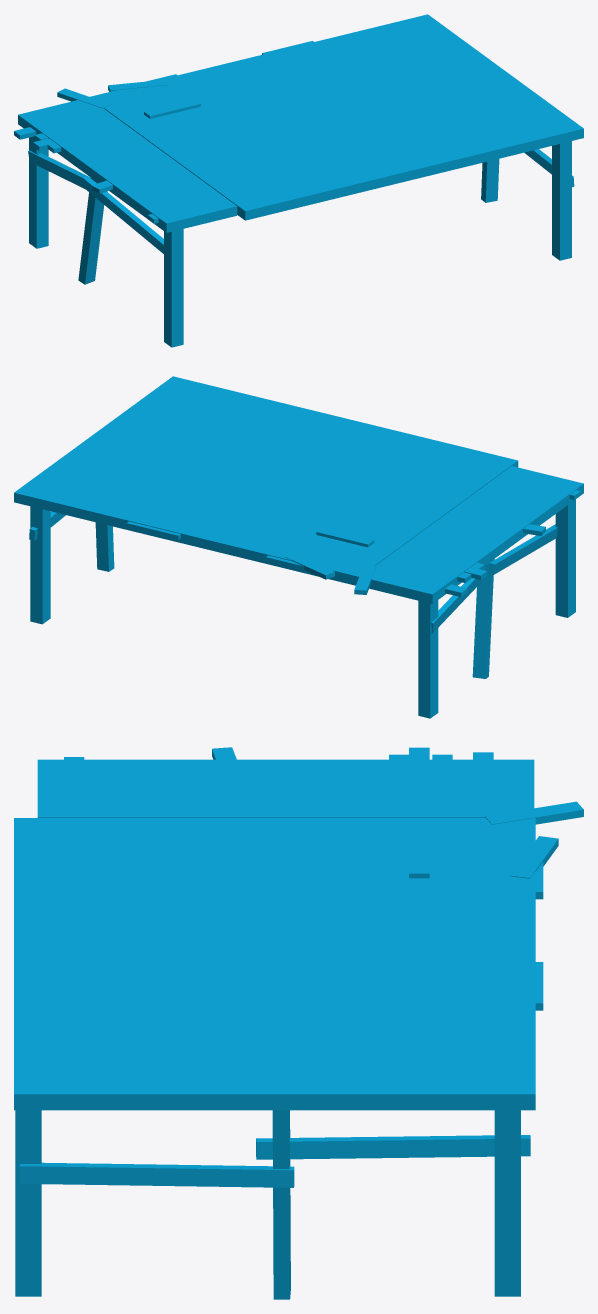
Rendered from House_Platform_01_Lod0.fbx.
The picture shows the model from 3 angles, top to bottom: view 1: azimuth 30°, elevation 25°; view 2: azimuth 150°, elevation 25°; view 3: azimuth 270°, elevation 25°; orthographic projection. The views are drawn at different scales.
Visible parts, largest first — view 1: House_Platform_01_Lod0; view 2: House_Platform_01_Lod0; view 3: House_Platform_01_Lod0.
Boxes of the visible parts, x1,y1,x2,y2 form: House_Platform_01_Lod0: (14, 14, 583, 347); House_Platform_01_Lod0: (14, 376, 583, 718); House_Platform_01_Lod0: (14, 747, 583, 1299).
Size of the model in its own units: 1029 by 299 by 712.
